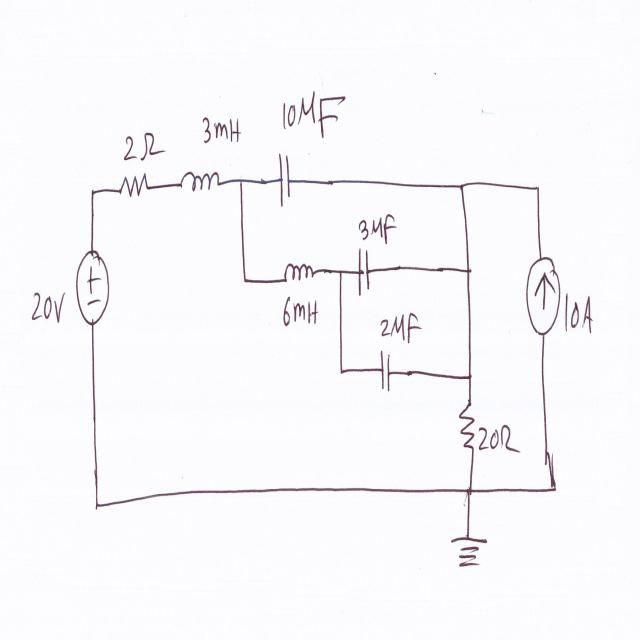capacitor: (353, 243, 373, 304), (375, 343, 394, 402), (277, 145, 293, 214)
current_source: (523, 250, 563, 342), (72, 241, 111, 328)
ground: (448, 528, 489, 578)
inductor: (279, 256, 319, 295), (176, 168, 223, 198)
resistor: (456, 395, 479, 459), (116, 174, 151, 205)
